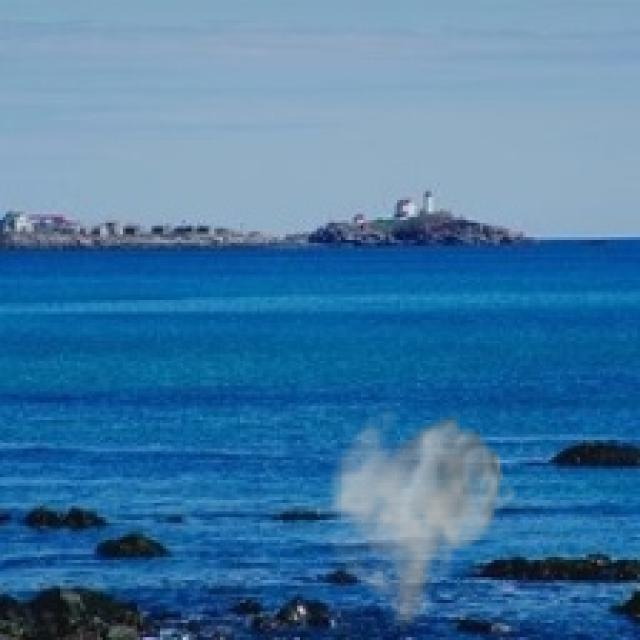Smoke: (320, 394, 520, 637)
